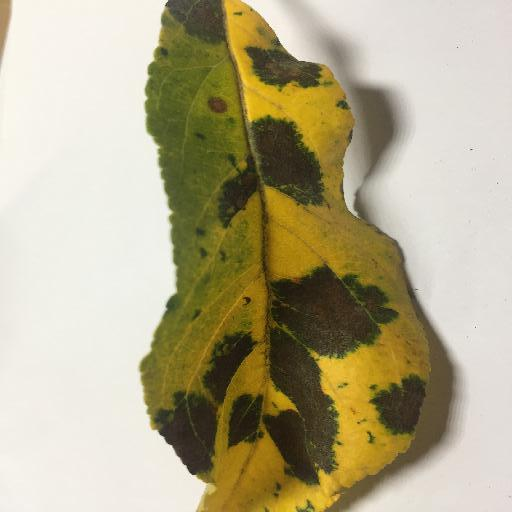Brown_Spot: (258, 276, 391, 350), (269, 355, 335, 477), (254, 123, 312, 198), (246, 47, 328, 92), (202, 91, 237, 122)
